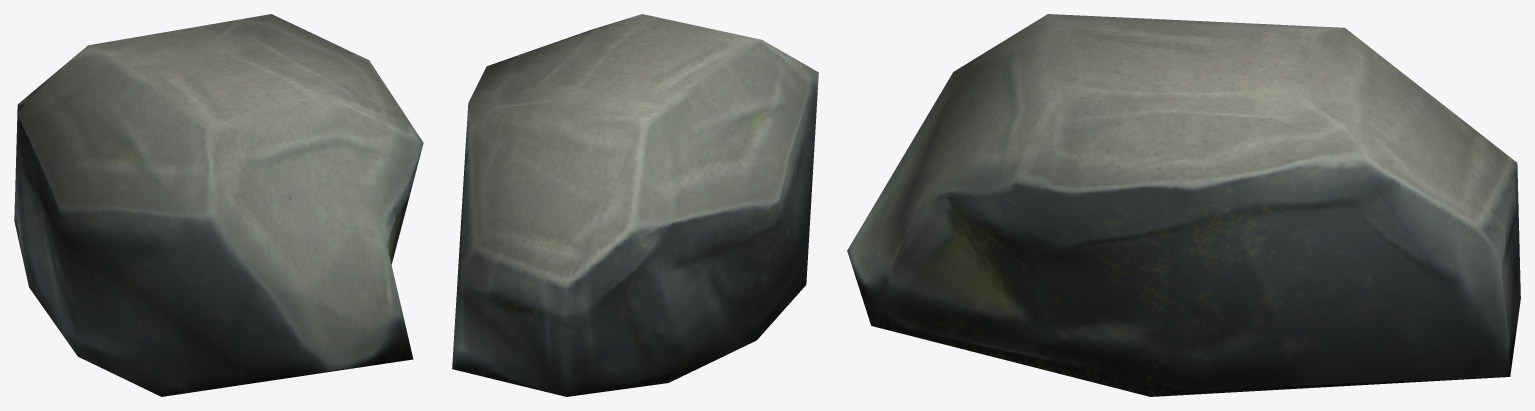
The picture shows the model from 3 angles, left to right: view 1: azimuth 30°, elevation 25°; view 2: azimuth 150°, elevation 25°; view 3: azimuth 270°, elevation 25°; orthographic projection. The views are drawn at different scales.
Visible parts, largest first — view 1: tas; view 2: tas; view 3: tas.
Boxes of the visible parts, x1=… form: tas: x1=14, y1=14, x2=423, y2=396; tas: x1=452, y1=14, x2=818, y2=396; tas: x1=847, y1=14, x2=1520, y2=396.
Bounding box in the file's own units: 11.99 × 10.3 × 19.21.
